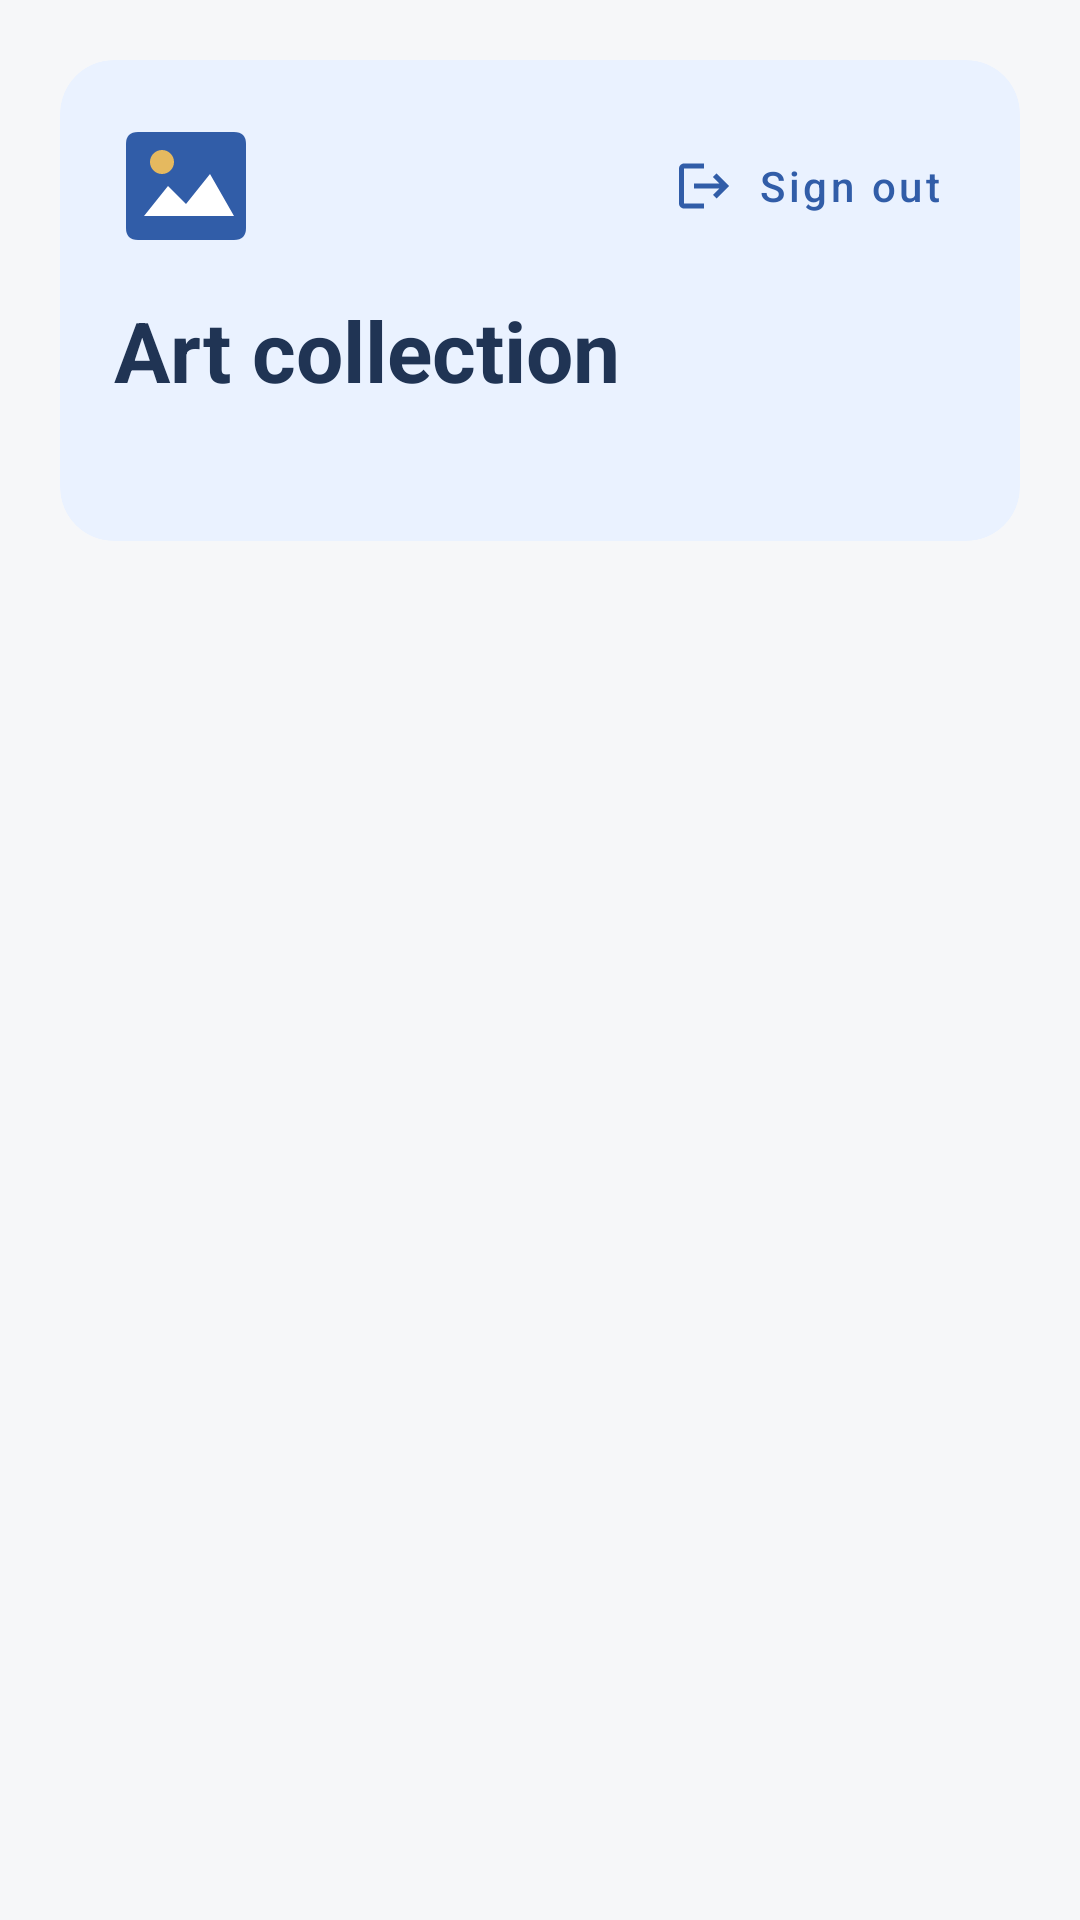

Where icons sit on this 1080*1920 app screen, as box(x1, y1, x2, y2):
gallery: box(126, 132, 246, 240)
